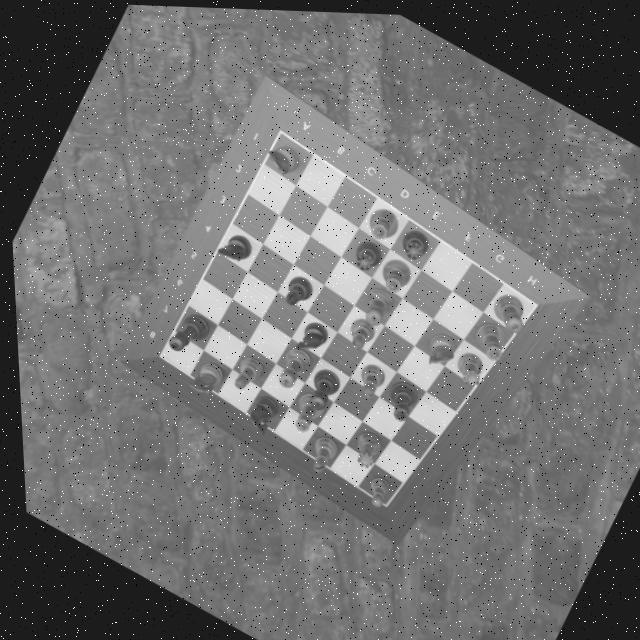chessboard: (155, 126, 536, 501)
